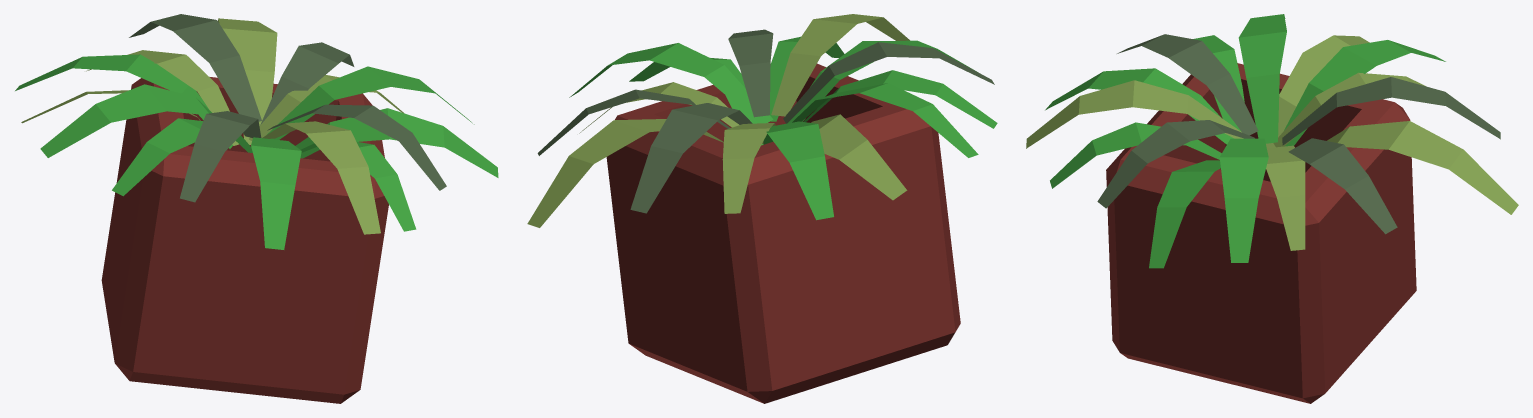
File: vase_3.fbx
3 renders of one model, left to right at view 1: azimuth 30°, elevation 25°; view 2: azimuth 150°, elevation 25°; view 3: azimuth 270°, elevation 25°, orthographic. The views are drawn at different scales.
Visible parts, largest first — view 1: Plane.067; view 2: Plane.067; view 3: Plane.067.
Part boxes in pixels (bbox=[...]): Plane.067: bbox=[15, 14, 498, 403]; Plane.067: bbox=[527, 14, 997, 403]; Plane.067: bbox=[1026, 14, 1518, 403].
Size of the model in its own units: 105 by 72.01 by 114.
